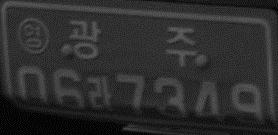0: (16, 65, 48, 107)
3: (152, 75, 187, 119)
4: (194, 81, 225, 125)
6: (53, 69, 84, 111)
7: (116, 73, 146, 115)
9: (230, 82, 264, 129)
광주_D: (68, 18, 196, 68)
라: (86, 75, 113, 113)
영: (16, 16, 51, 55)
